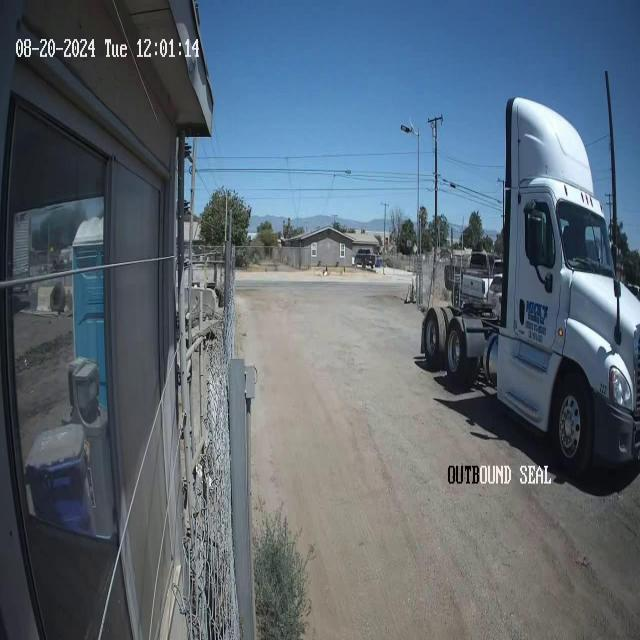TRUCK_IN: (420, 94, 640, 480)
